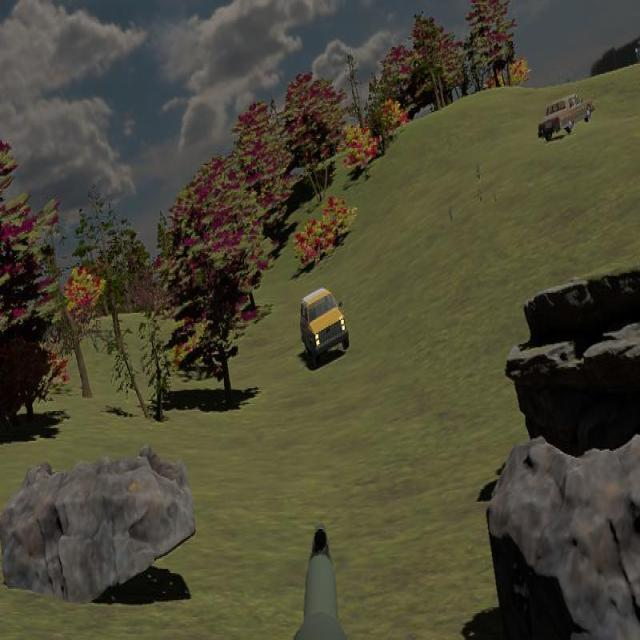car: (300, 288, 349, 364), (537, 92, 594, 141)
